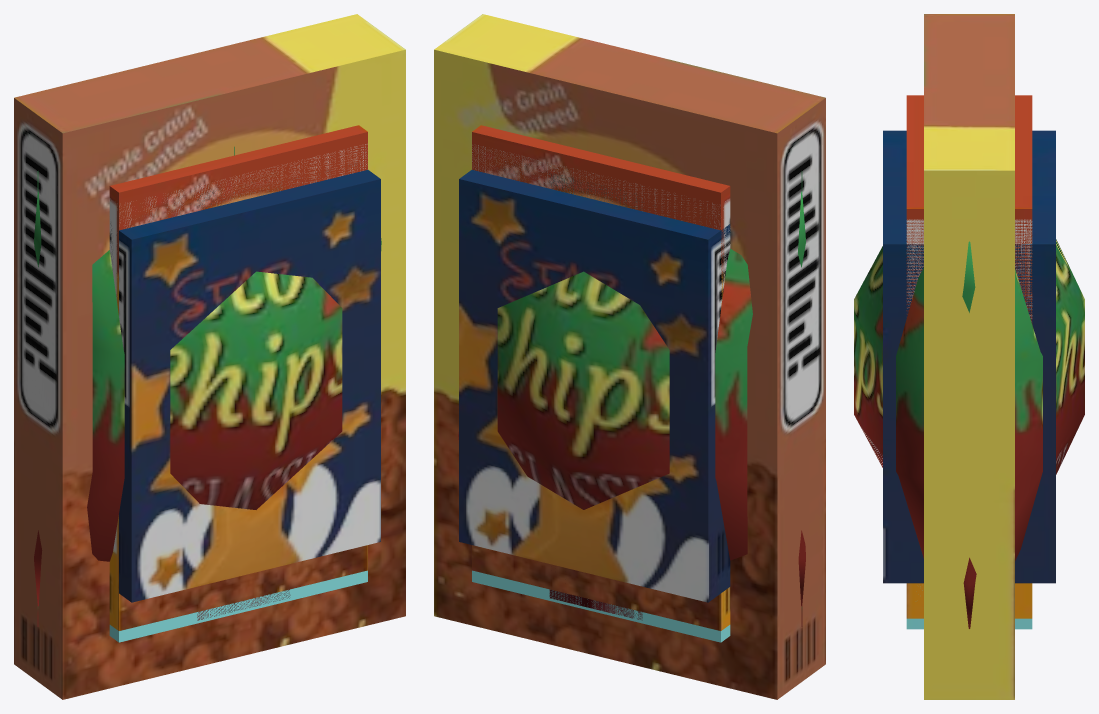
Rendered from snackies.glb.
3 views of the same model, side by side, from view 1: azimuth 30°, elevation 25°; view 2: azimuth 150°, elevation 25°; view 3: azimuth 270°, elevation 25° (orthographic). The views are drawn at different scales.
Parts seen in each view (by area): view 1: Cereal_C, Cereal_B, Chips_A, Cereal_A, Milk_B; view 2: Cereal_C, Cereal_B, Chips_A, Cereal_A, Milk_B, Juice_C; view 3: Cereal_C, Chips_A, Cereal_B, Cereal_A, Milk_B.
Part boxes in pixels (box(x1,y1,x2,y2)): Cereal_C: box(14, 14, 405, 699); Cereal_B: box(116, 170, 380, 602); Chips_A: box(34, 171, 381, 626); Cereal_A: box(109, 125, 367, 630); Milk_B: box(109, 144, 367, 642); Cereal_C: box(434, 14, 825, 699); Cereal_B: box(459, 170, 730, 602); Chips_A: box(458, 171, 805, 626); Cereal_A: box(472, 125, 730, 630); Milk_B: box(472, 145, 730, 642); Juice_C: box(549, 173, 642, 620); Cereal_C: box(924, 14, 1014, 699); Chips_A: box(854, 239, 1084, 628); Cereal_B: box(883, 130, 1055, 583); Cereal_A: box(906, 95, 1032, 618); Milk_B: box(906, 219, 1032, 629).
Size of the model in its own units: 0.2746 by 0.422 by 0.1668.
Materials: 1 (1 with a texture image).
